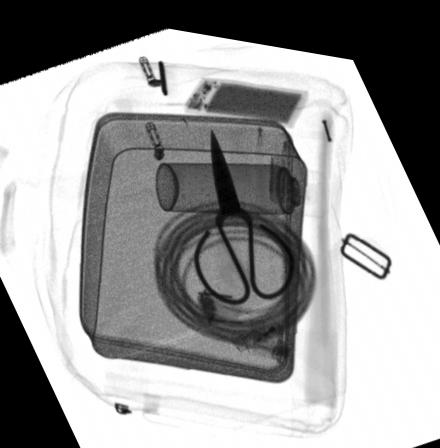Scissors: (193, 121, 299, 298)
